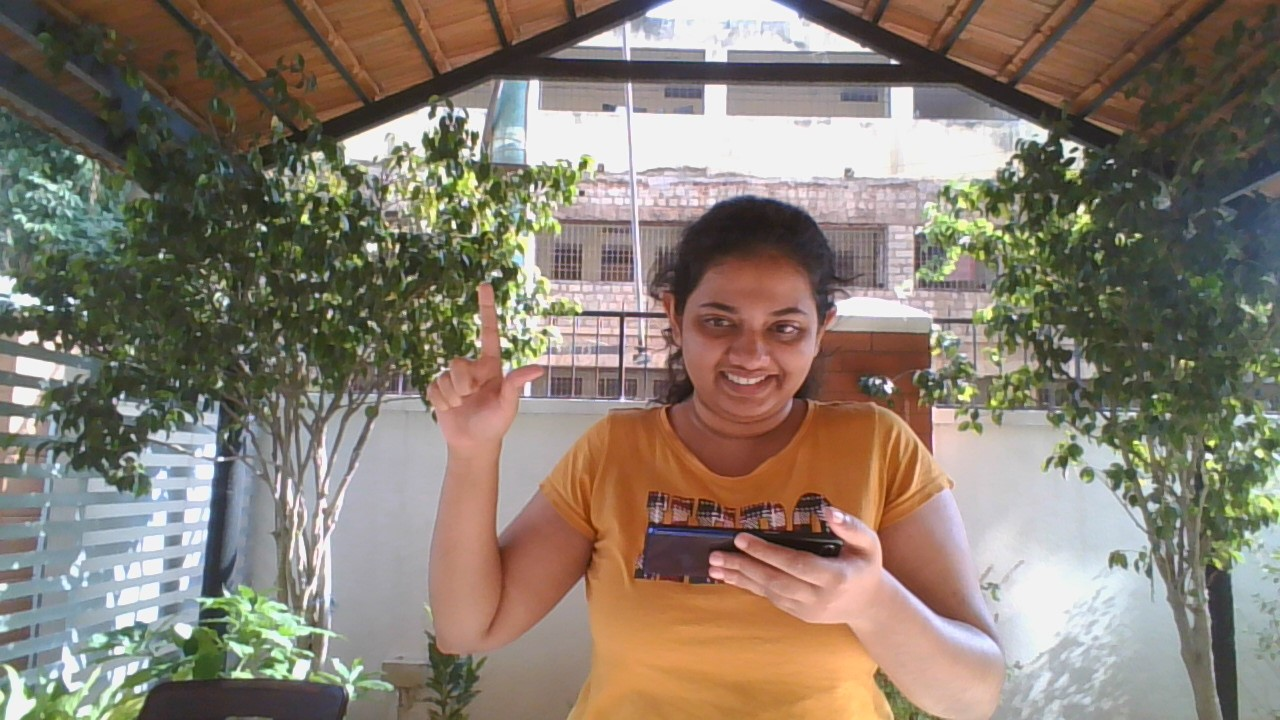l: (405, 277, 557, 461)
